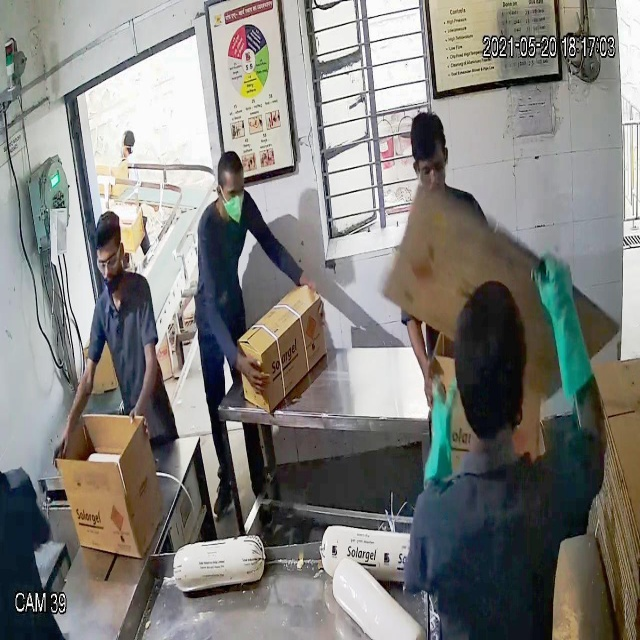Gafas: (92, 246, 125, 276)
